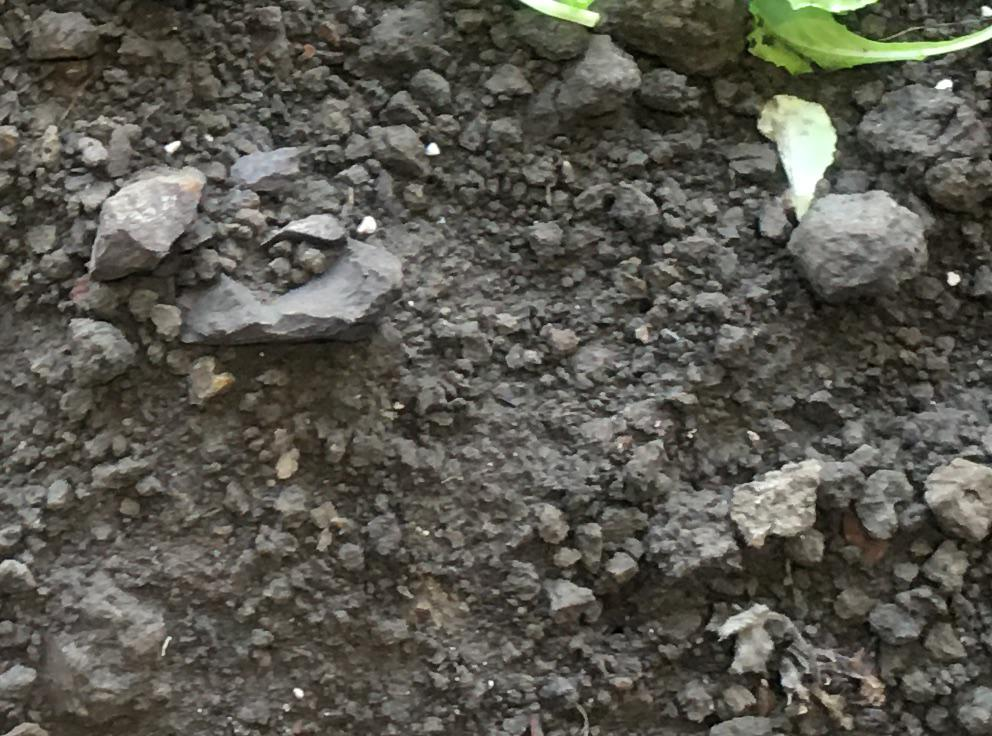block: (781, 192, 932, 308), (85, 166, 204, 284)
